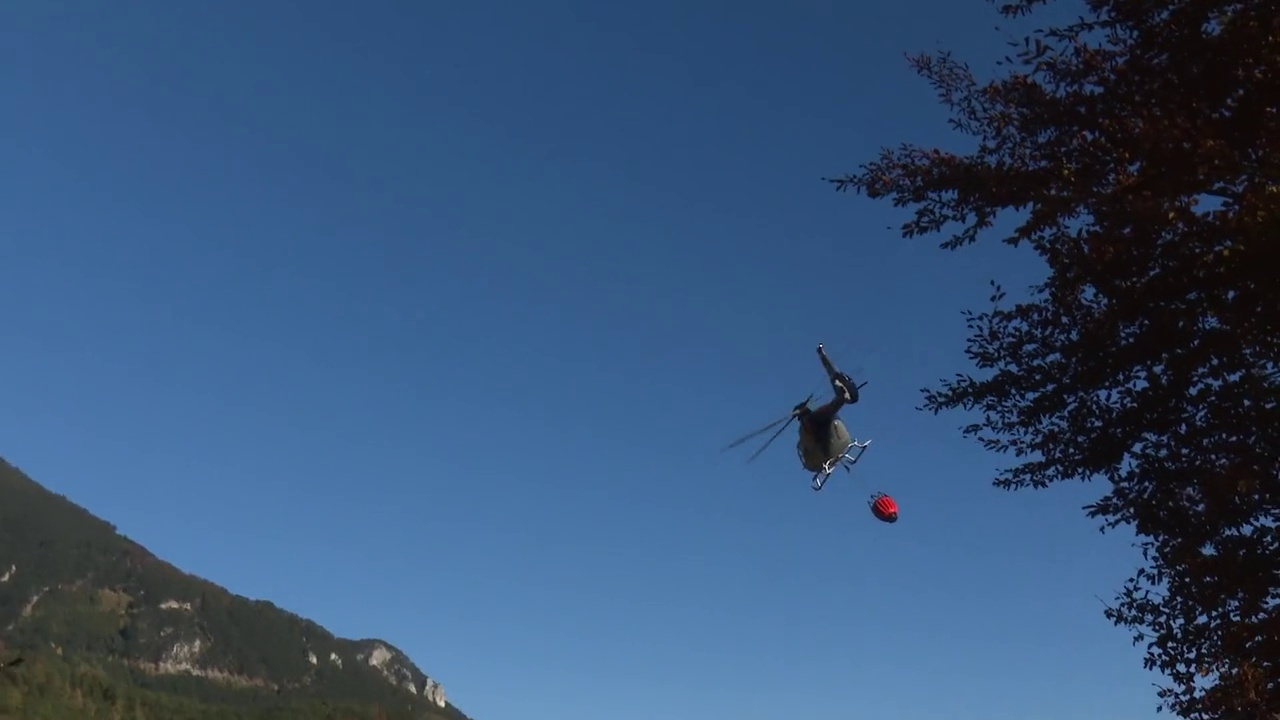heli: (723, 343, 871, 491)
